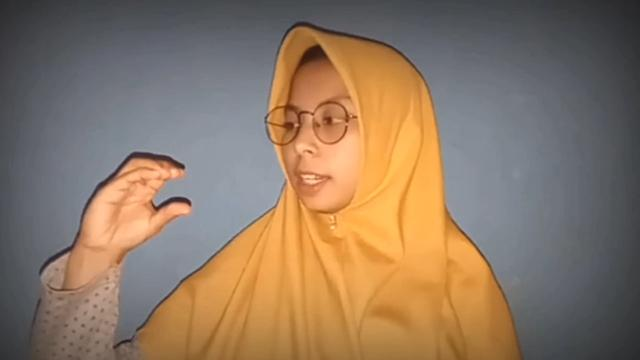C: (78, 151, 192, 256)
